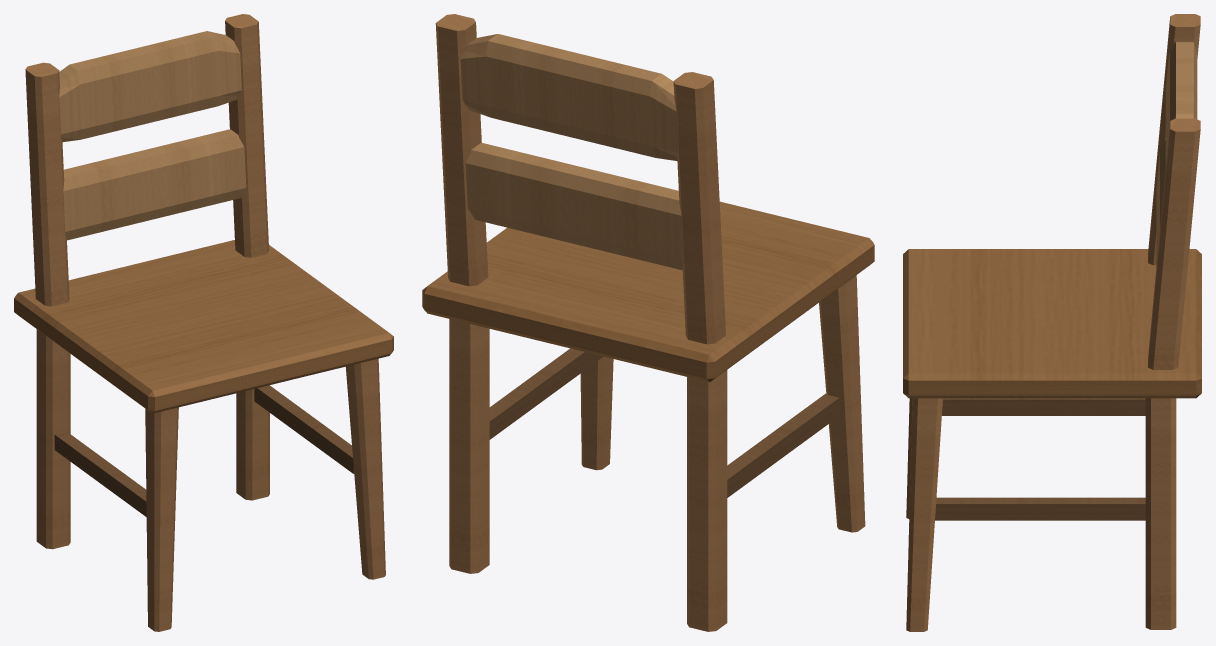
Rendered from dining_chair_refined.glb.
3 views of the same model, side by side, from view 1: azimuth 30°, elevation 25°; view 2: azimuth 150°, elevation 25°; view 3: azimuth 270°, elevation 25° (orthographic). The views are drawn at different scales.
Parts seen in each view (by area): view 1: home_dining_chair_refined; view 2: home_dining_chair_refined; view 3: home_dining_chair_refined.
Part boxes in pixels (x1,y1,x2,y2): home_dining_chair_refined: [14, 14, 393, 631]; home_dining_chair_refined: [422, 14, 874, 631]; home_dining_chair_refined: [903, 14, 1201, 631].
Bounding box in the file's own units: 0.5 × 0.902 × 0.49.
Materials: 1 (1 with a texture image).
